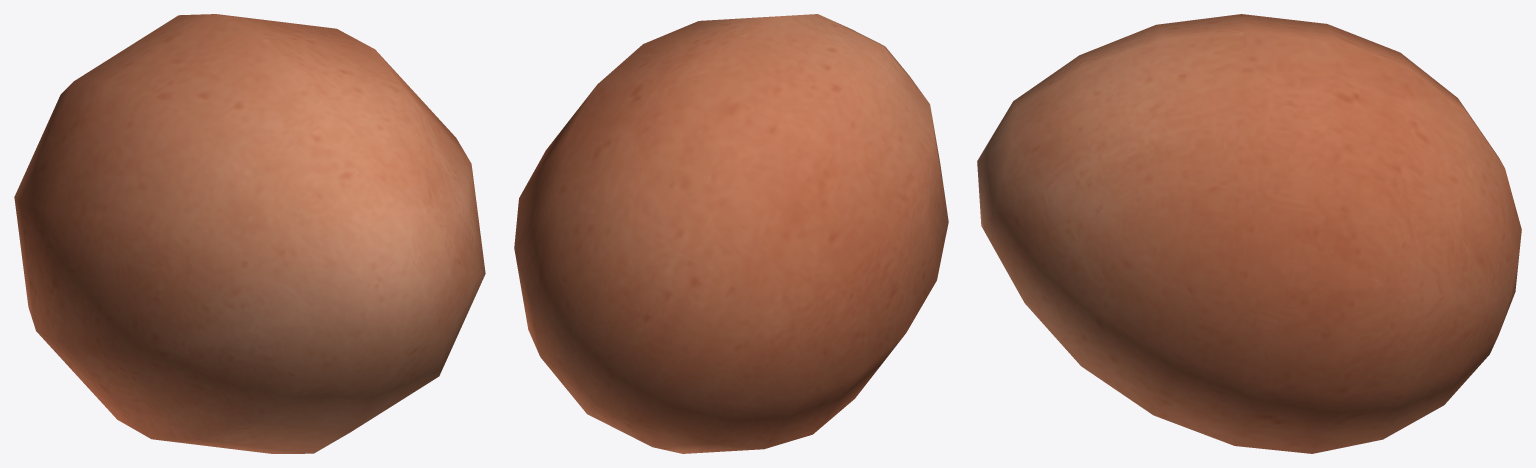
Rendered from Egg2.glb.
3 renders of one model, left to right at view 1: azimuth 30°, elevation 25°; view 2: azimuth 150°, elevation 25°; view 3: azimuth 270°, elevation 25°, orthographic. The views are drawn at different scales.
Visible parts, largest first — view 1: lba_egg_1_mod; view 2: lba_egg_1_mod; view 3: lba_egg_1_mod.
Boxes of the visible parts, x1,y1,x2,y2 form: lba_egg_1_mod: [14, 14, 485, 453]; lba_egg_1_mod: [514, 14, 948, 453]; lba_egg_1_mod: [977, 14, 1521, 453].
Size of the model in its own units: 0.6921 by 0.7373 by 0.8976.
1 material, 1 textured.
